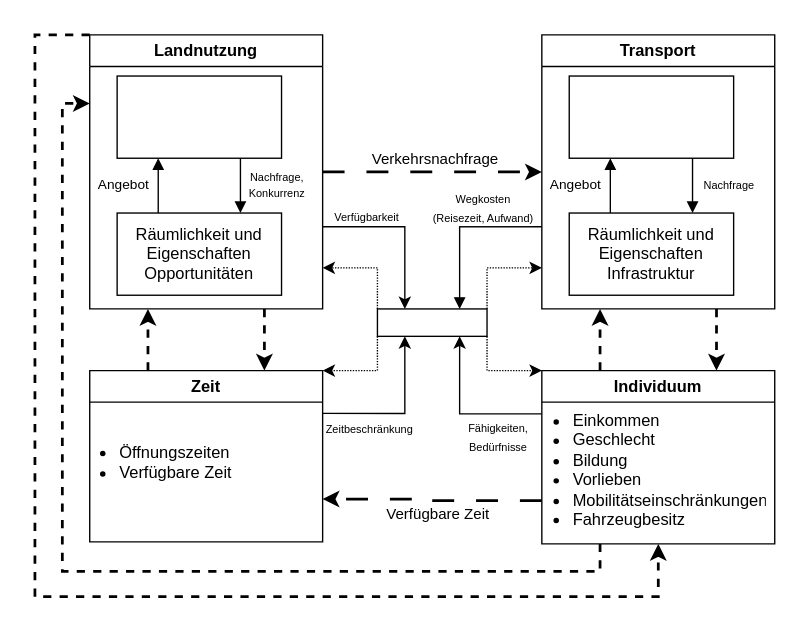
Image size: 799x632. Some labels were removed from this diagram. Here are the shapes that lost their labels. From the top down, the centre of each, then its label:
At point (199, 116): "Räumlichkeit und Eigenschaften Nachfrage".
At point (651, 116): "Transportflüsse: Personen + Güter".
At point (431, 322): "Accessibility".
